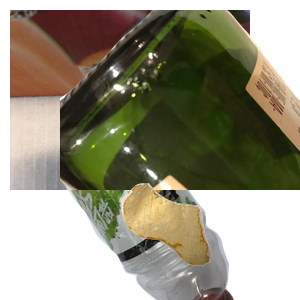cardboard: (10, 10, 250, 190)
glass: (60, 10, 300, 190)
plastic: (25, 120, 252, 300)
trash: (119, 181, 300, 300)
